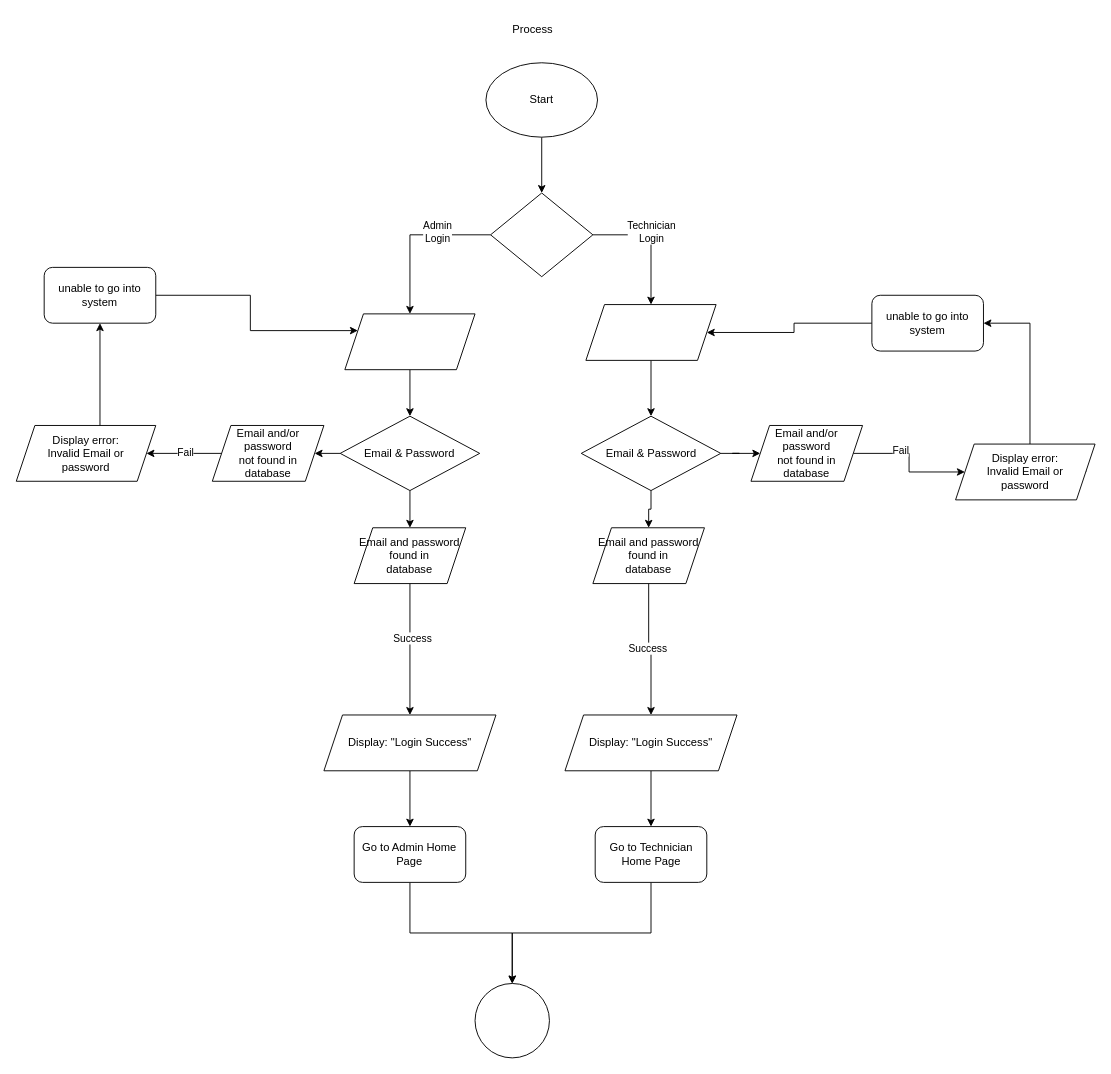
Some shapes in this 1111 by 1074 pixel diagram are drawn without their labels. Each missing label, with the centre of its shape:
"Admin Login Page" belongs at point 409,341.
"End" belongs at point 511,1020.
"Login Selection" belongs at point 541,234.
"Staff Login Page" belongs at point 650,332.
